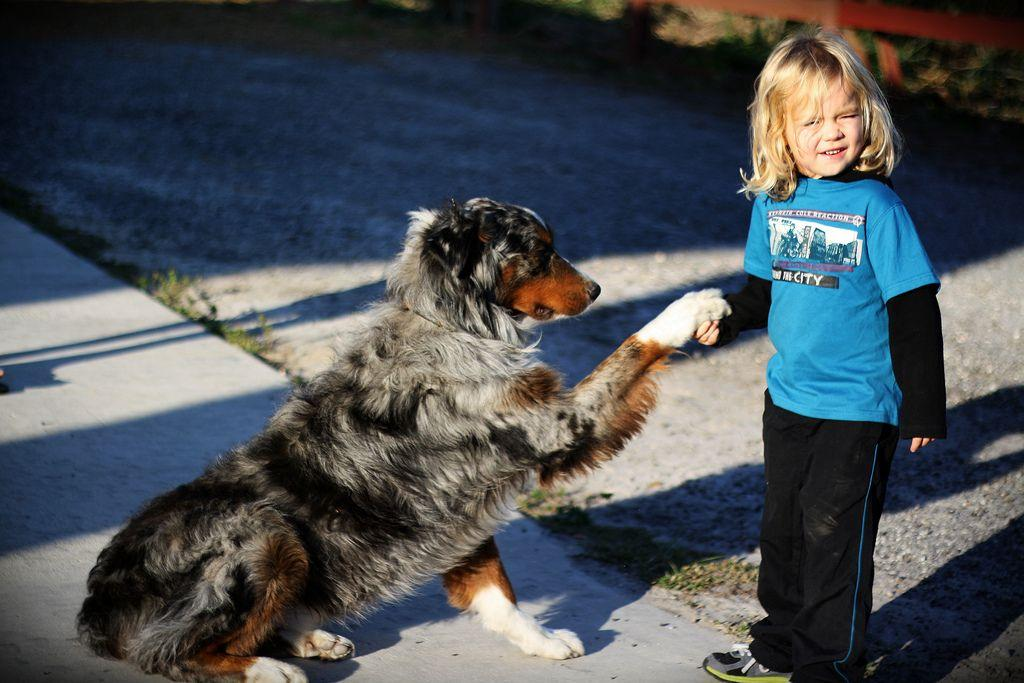face: (790, 66, 870, 176)
